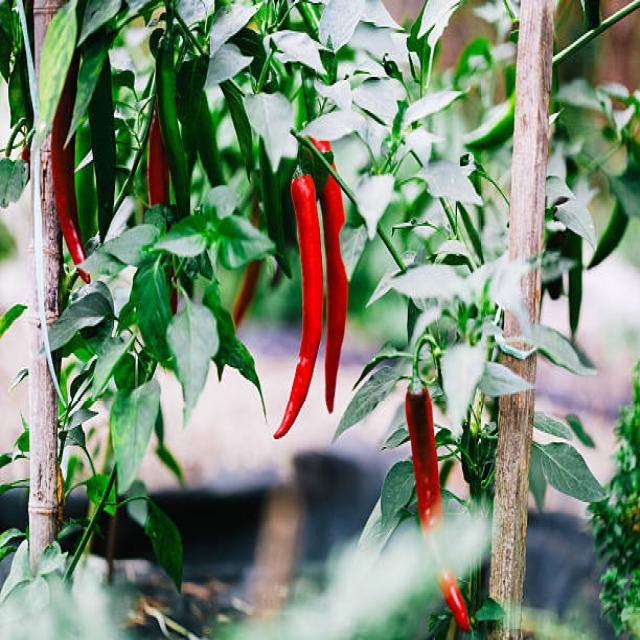Ripe: (274, 179, 323, 441), (51, 55, 84, 262), (321, 177, 349, 416), (405, 381, 440, 529)
Unripe: (156, 39, 189, 216), (259, 140, 290, 275)
